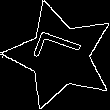L_E: (30, 32, 90, 79)
